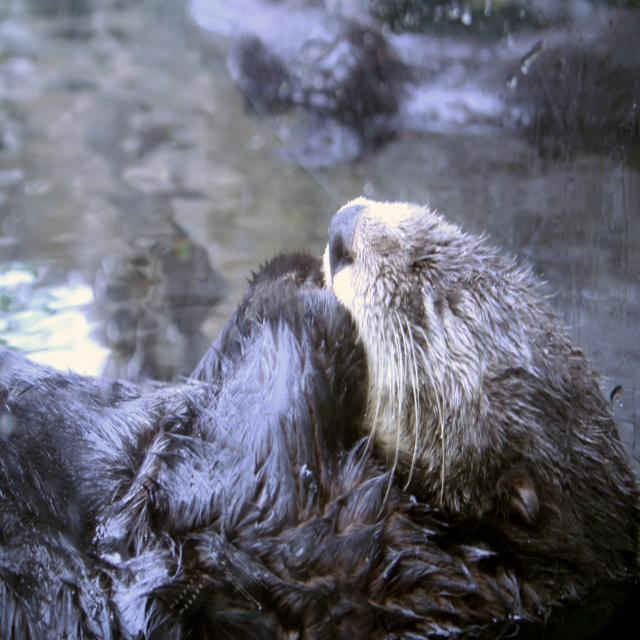otter: (1, 196, 640, 640)
